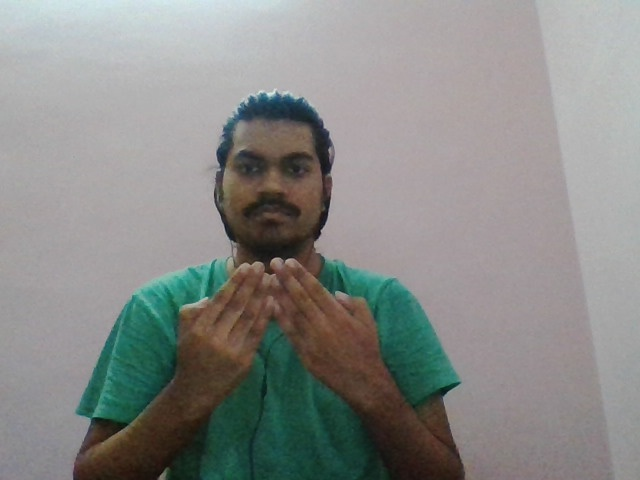ThankYou: (174, 257, 383, 412)
